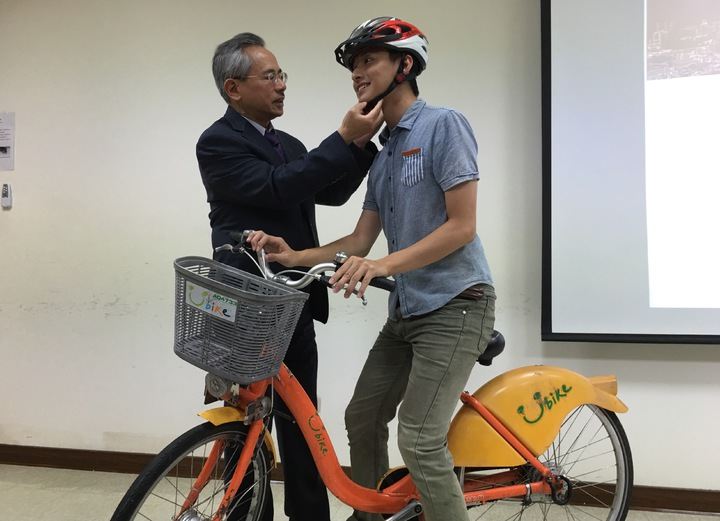helmet: (331, 23, 439, 65)
